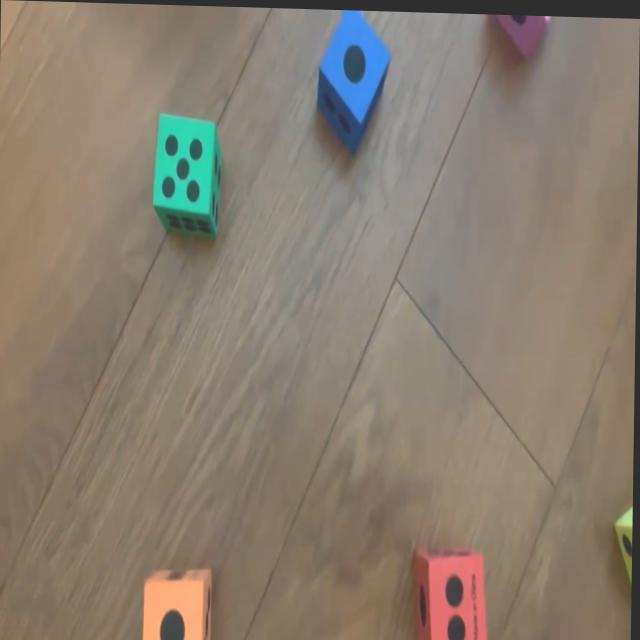cube: (318, 7, 388, 150), (153, 110, 222, 236), (416, 543, 489, 640)
